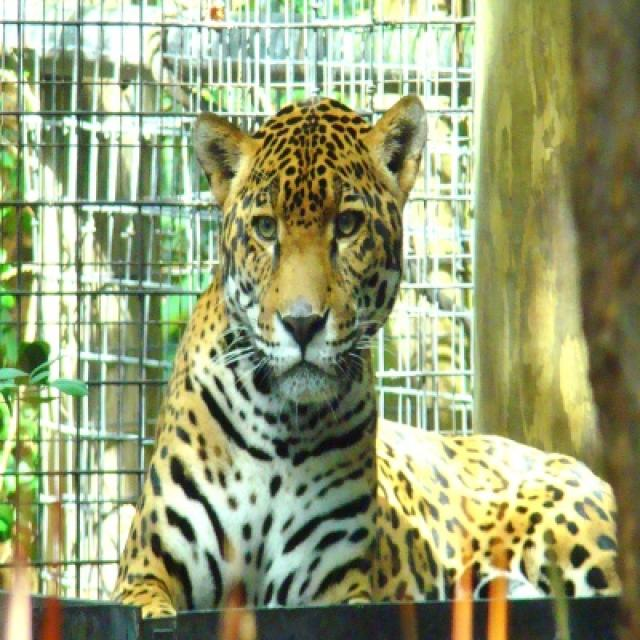Jaguar: (114, 96, 622, 621)
